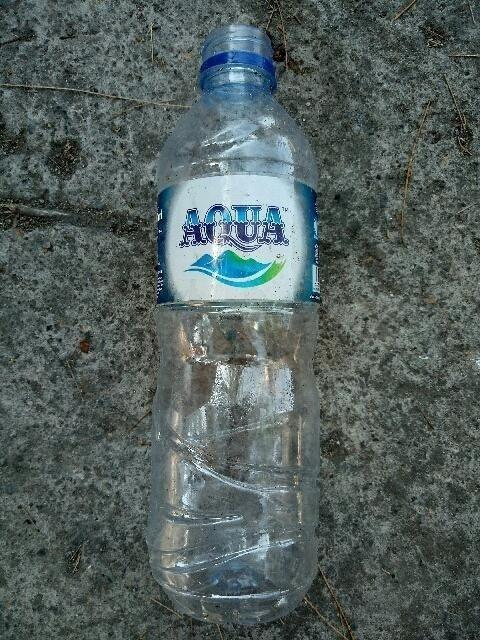bottle-plastic: (136, 18, 329, 635)
